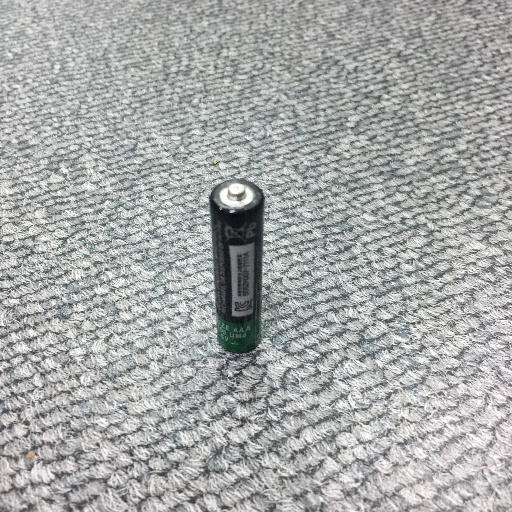Battery_0: (201, 163, 277, 364)
